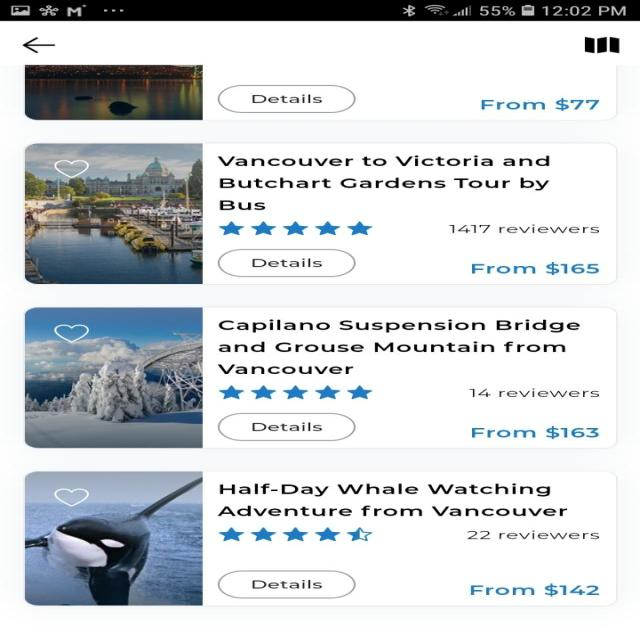Icon: (218, 221, 372, 236), (218, 384, 372, 399), (218, 526, 372, 541), (53, 488, 90, 507), (53, 160, 90, 178), (53, 324, 90, 342), (583, 37, 620, 54), (21, 37, 56, 54)
Image: (25, 143, 203, 284), (25, 307, 203, 448), (25, 471, 203, 605), (25, 65, 203, 121)
Text: (216, 319, 580, 374), (216, 154, 550, 210), (217, 482, 568, 516), (470, 425, 598, 439), (470, 582, 598, 596), (470, 262, 598, 275), (480, 98, 599, 111), (448, 224, 599, 233), (468, 388, 600, 397), (466, 529, 598, 538)
TextButton: (217, 84, 356, 113), (217, 248, 356, 277), (217, 570, 356, 599), (216, 413, 356, 441)
